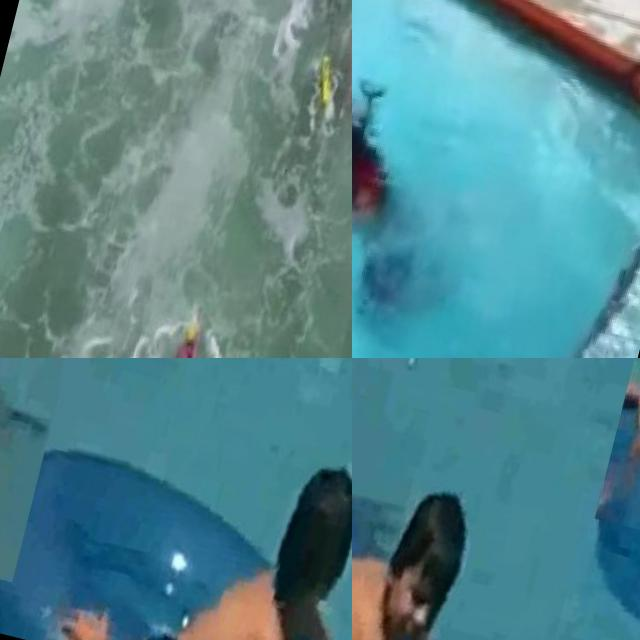drowning: (352, 51, 467, 342), (0, 358, 112, 583)
swimming: (101, 405, 352, 640), (352, 449, 491, 640), (593, 358, 640, 553), (167, 309, 213, 358), (315, 0, 351, 21)
